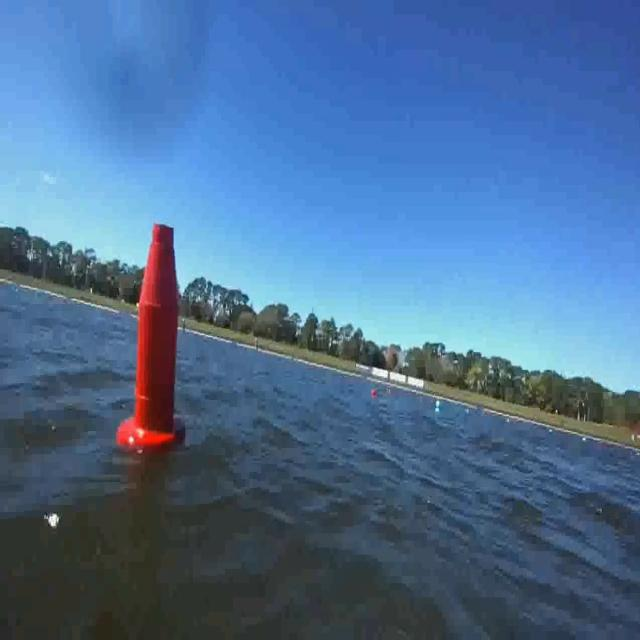red-column-buoy: (119, 214, 185, 453)
